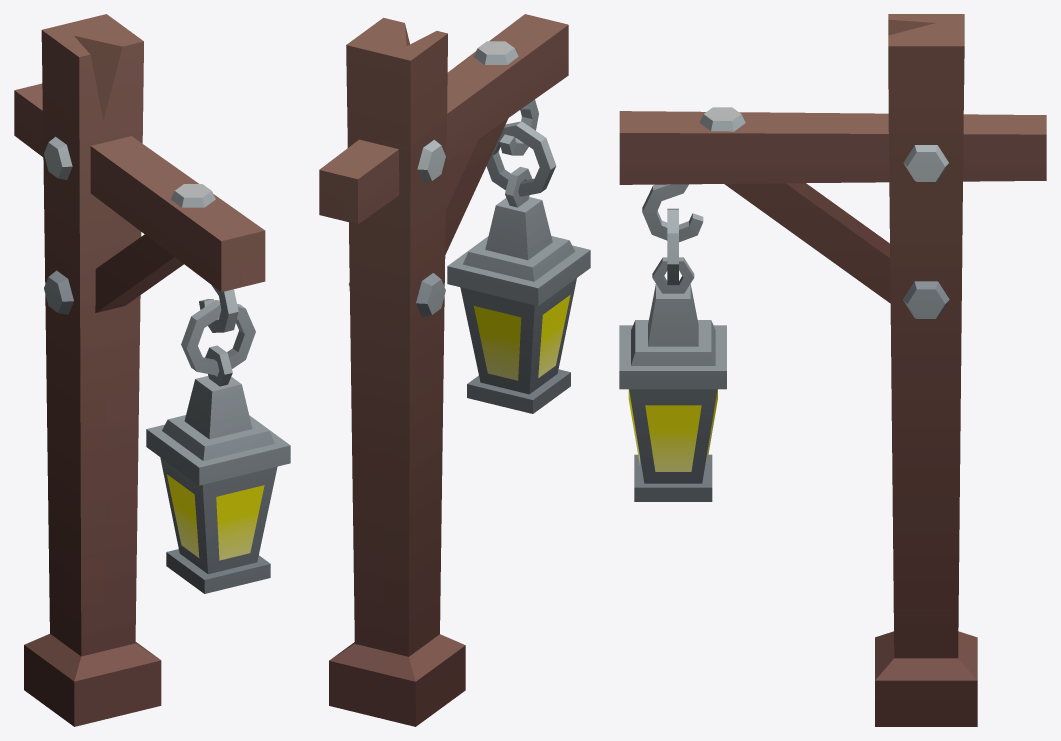
The model's file is lightpost.glb.
3 views of the same model, side by side, from view 1: azimuth 30°, elevation 25°; view 2: azimuth 150°, elevation 25°; view 3: azimuth 270°, elevation 25° (orthographic). The views are drawn at different scales.
Visible parts, largest first — view 1: lightPost1; view 2: lightPost1; view 3: lightPost1.
Part boxes in pixels (x1,y1,x2,y2): lightPost1: (14,14,290,726); lightPost1: (319,14,590,726); lightPost1: (619,14,1046,726).
Size of the model in its own units: 0.4645 by 3.22 by 1.84.
Materials: 1 (1 with a texture image).
